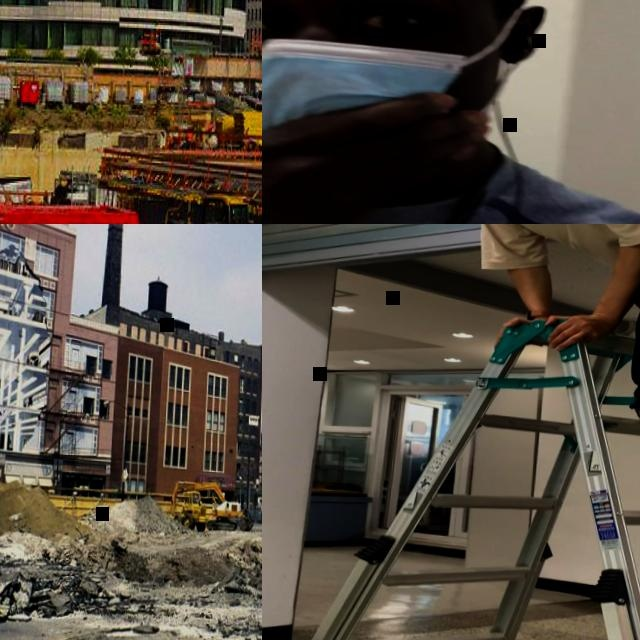Mask: (262, 35, 474, 143)
NO-Safety Vest: (262, 156, 640, 224)
Person: (262, 0, 640, 224), (373, 224, 640, 486)
machinery: (144, 185, 262, 224), (167, 479, 254, 531), (173, 488, 208, 531)
